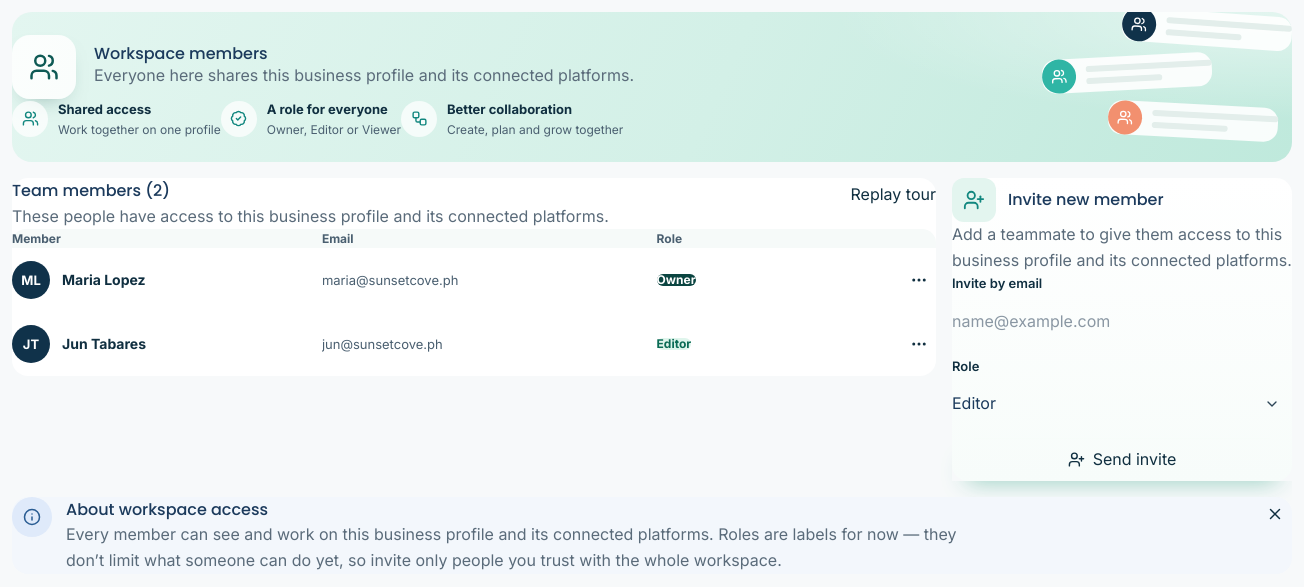
Test: WorkspaceSettings › the access note says roles do not limit anything yet, and can be dismissed
Expected: the text "Maria Lopez" is shown, [62, 269, 146, 292]
What coordinates should you click on to do the following:
click the button named "Dismiss"
I would click on:
 (1275, 514)
Its box is [1258, 497, 1292, 531].
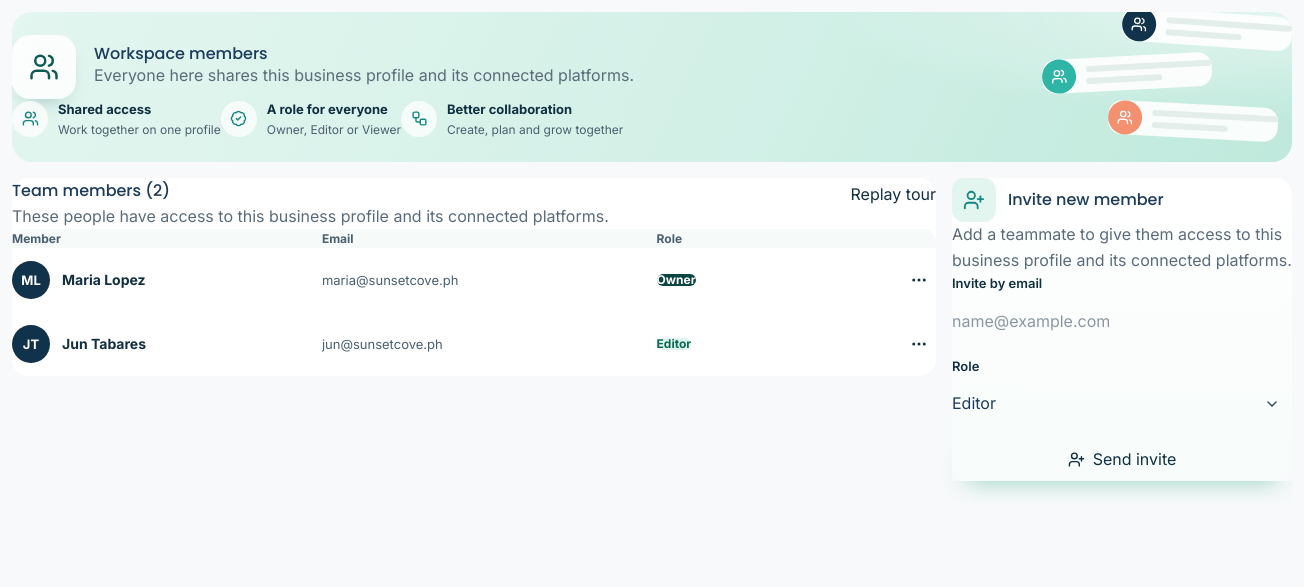
Result: the heading "About workspace access" is gone
